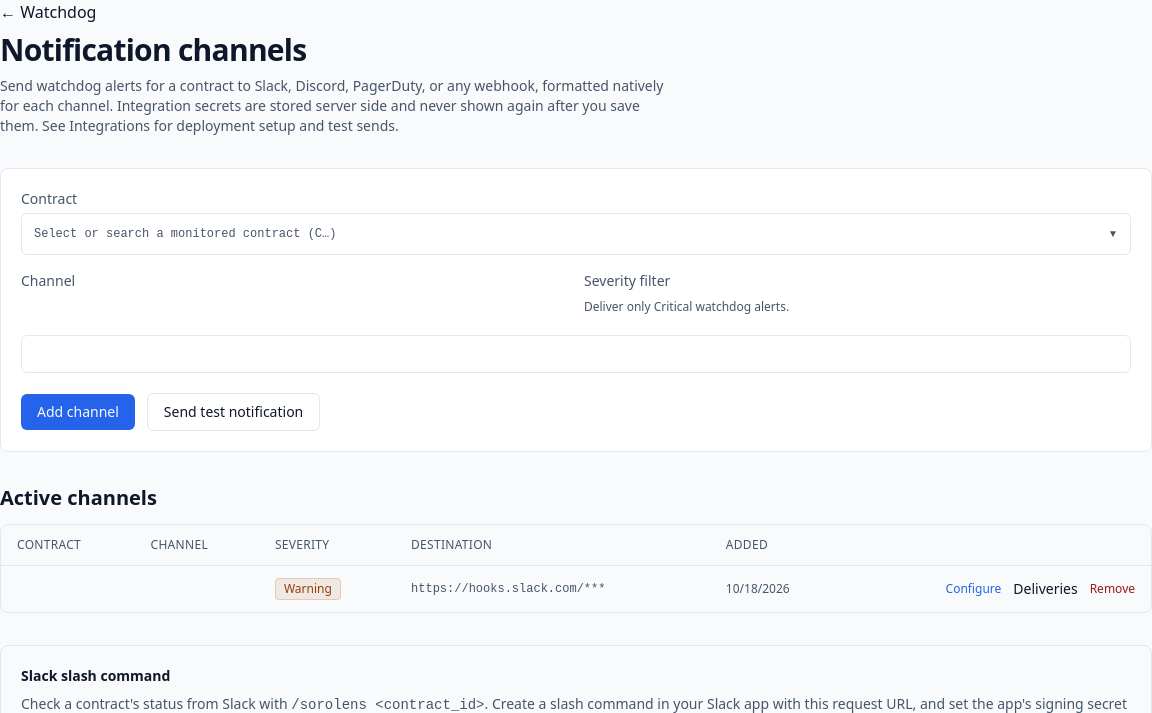
NotificationsPage › removes a subscription
Click the button "Remove" at (1112, 589), box [1090,581,1135,597]
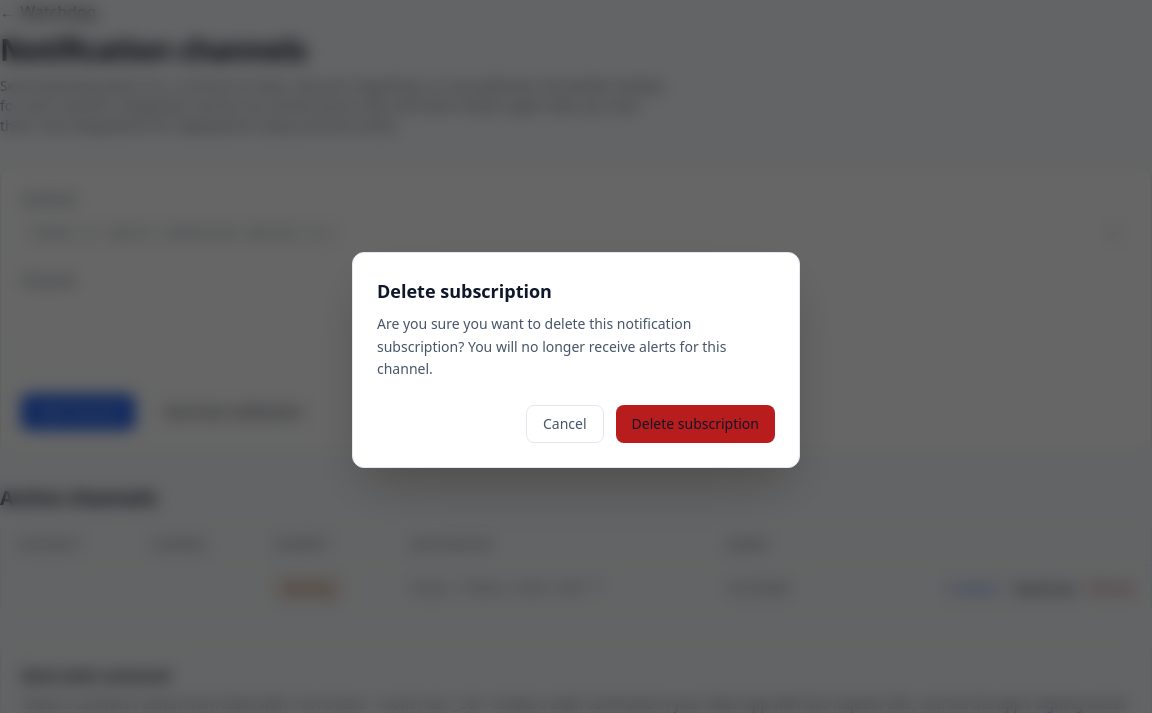
Click the button "Delete subscription" at (695, 424), box [616,405,775,443]
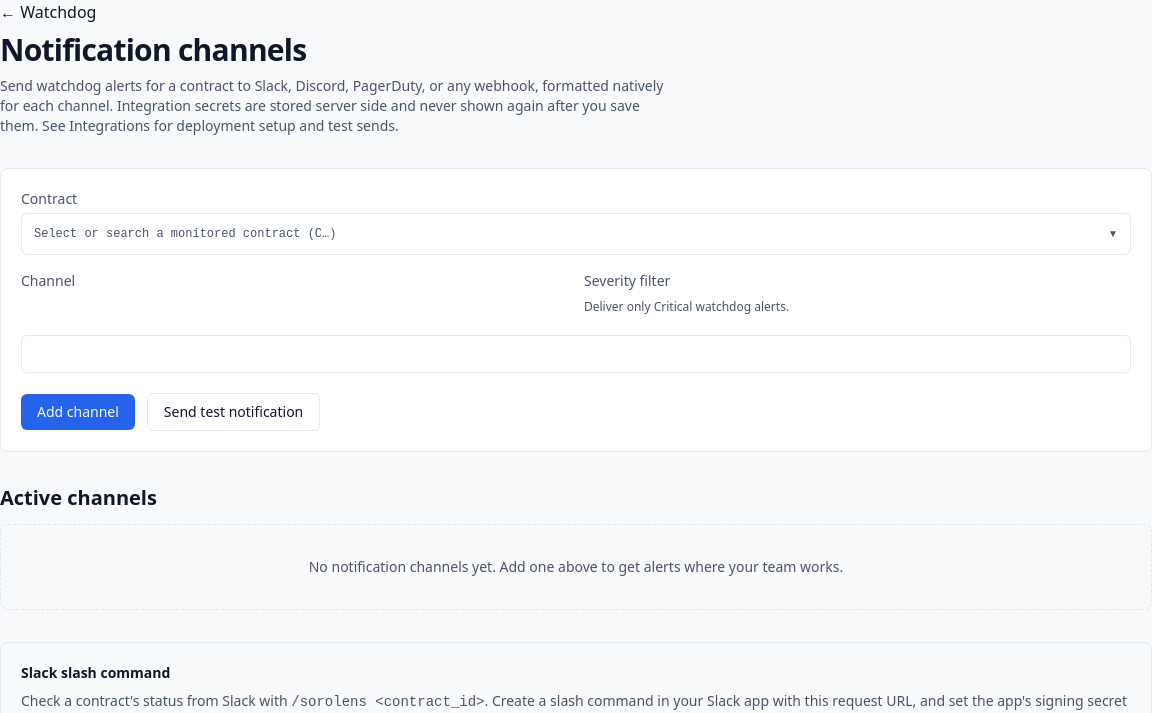
Expected: the button "Remove" is gone
Expected: the text "No notification channels yet" is shown, [309,557,843,576]
